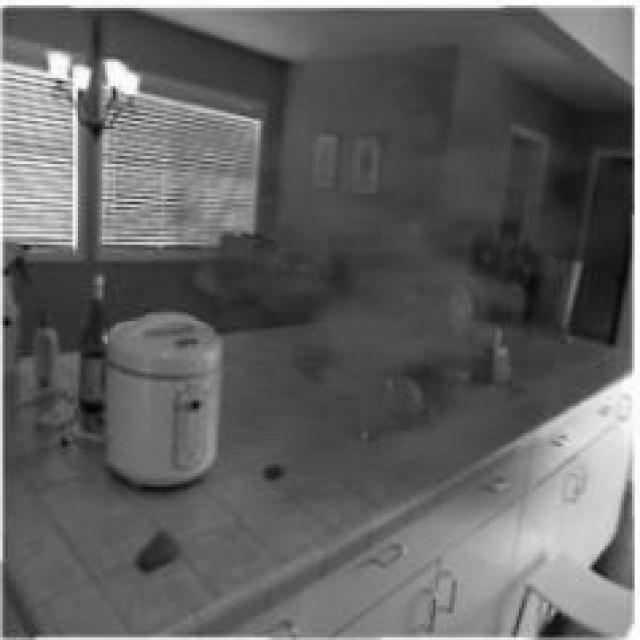fire: (183, 5, 624, 530)
